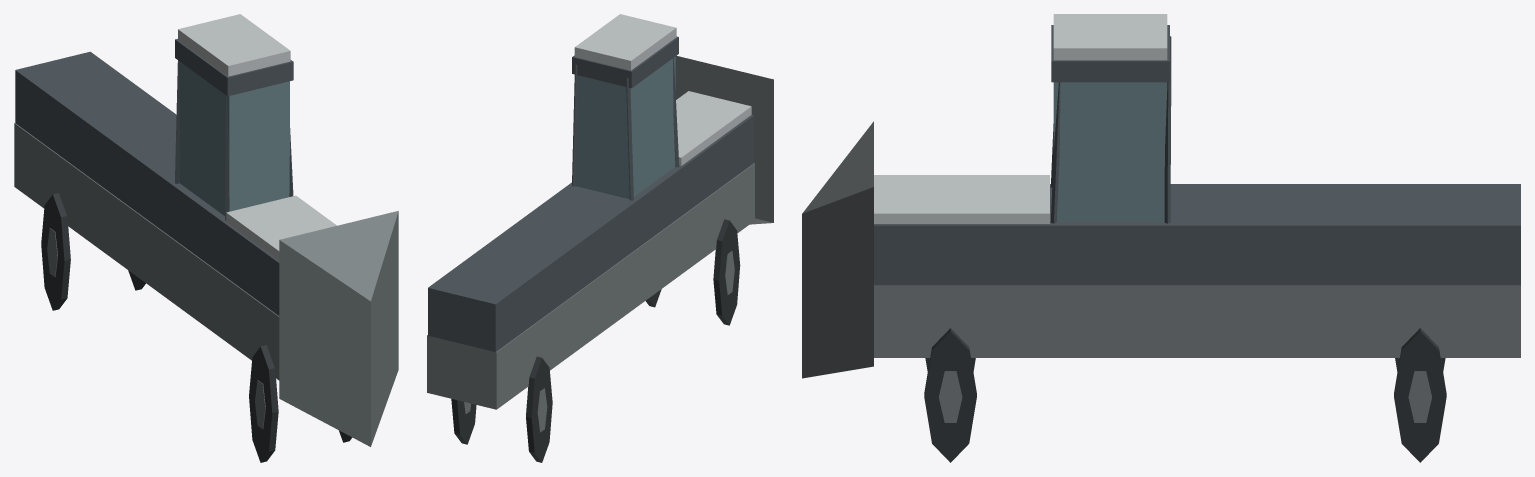
Rendered from rail_plow.glb.
3 renders of one model, left to right at view 1: azimuth 30°, elevation 25°; view 2: azimuth 150°, elevation 25°; view 3: azimuth 270°, elevation 25°, orthographic. The views are drawn at different scales.
Visible parts, largest first — view 1: rail_plow; view 2: rail_plow; view 3: rail_plow.
Boxes of the visible parts, <box> form: rail_plow: <box>14,14,398,462</box>; rail_plow: <box>427,14,773,462</box>; rail_plow: <box>802,14,1520,462</box>.
Size of the model in its own units: 0.624 by 1.8 by 2.88.
